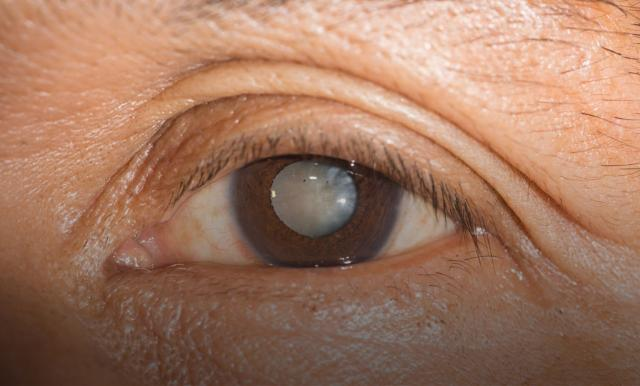eye: (229, 150, 405, 266)
